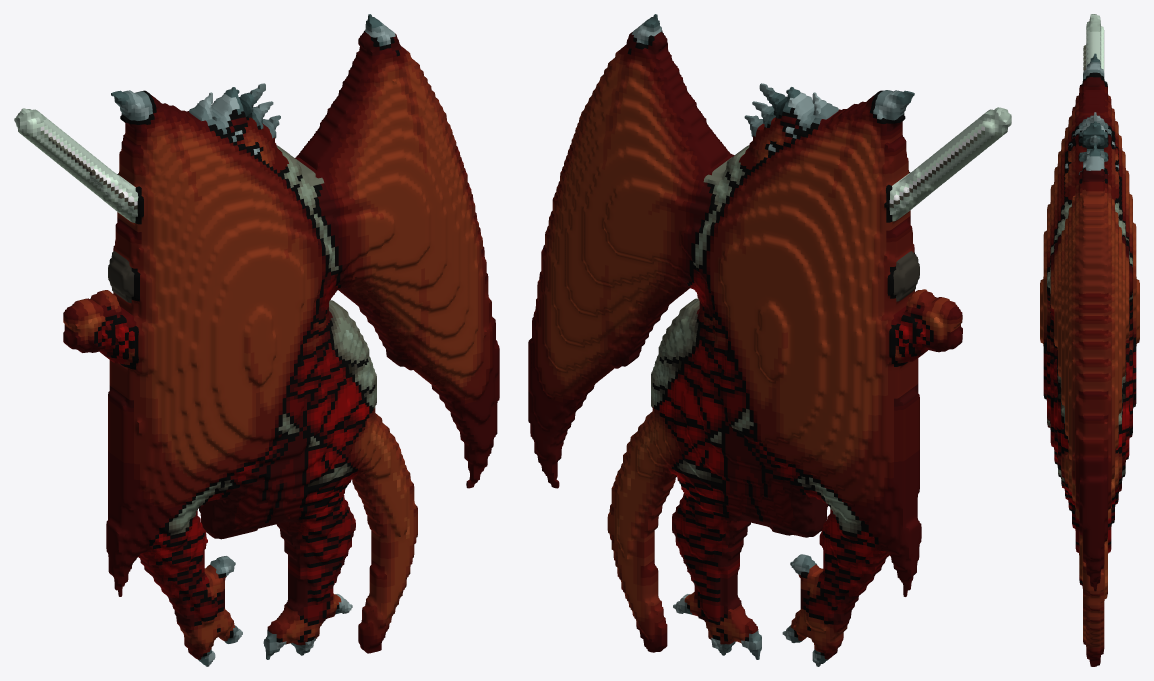
File: Fight_015_1_02.obj
The picture shows the model from 3 angles, left to right: view 1: azimuth 30°, elevation 25°; view 2: azimuth 150°, elevation 25°; view 3: azimuth 270°, elevation 25°; orthographic projection. The views are drawn at different scales.
Bounding box in the file's own units: 12.6 × 16.08 × 2.8.
